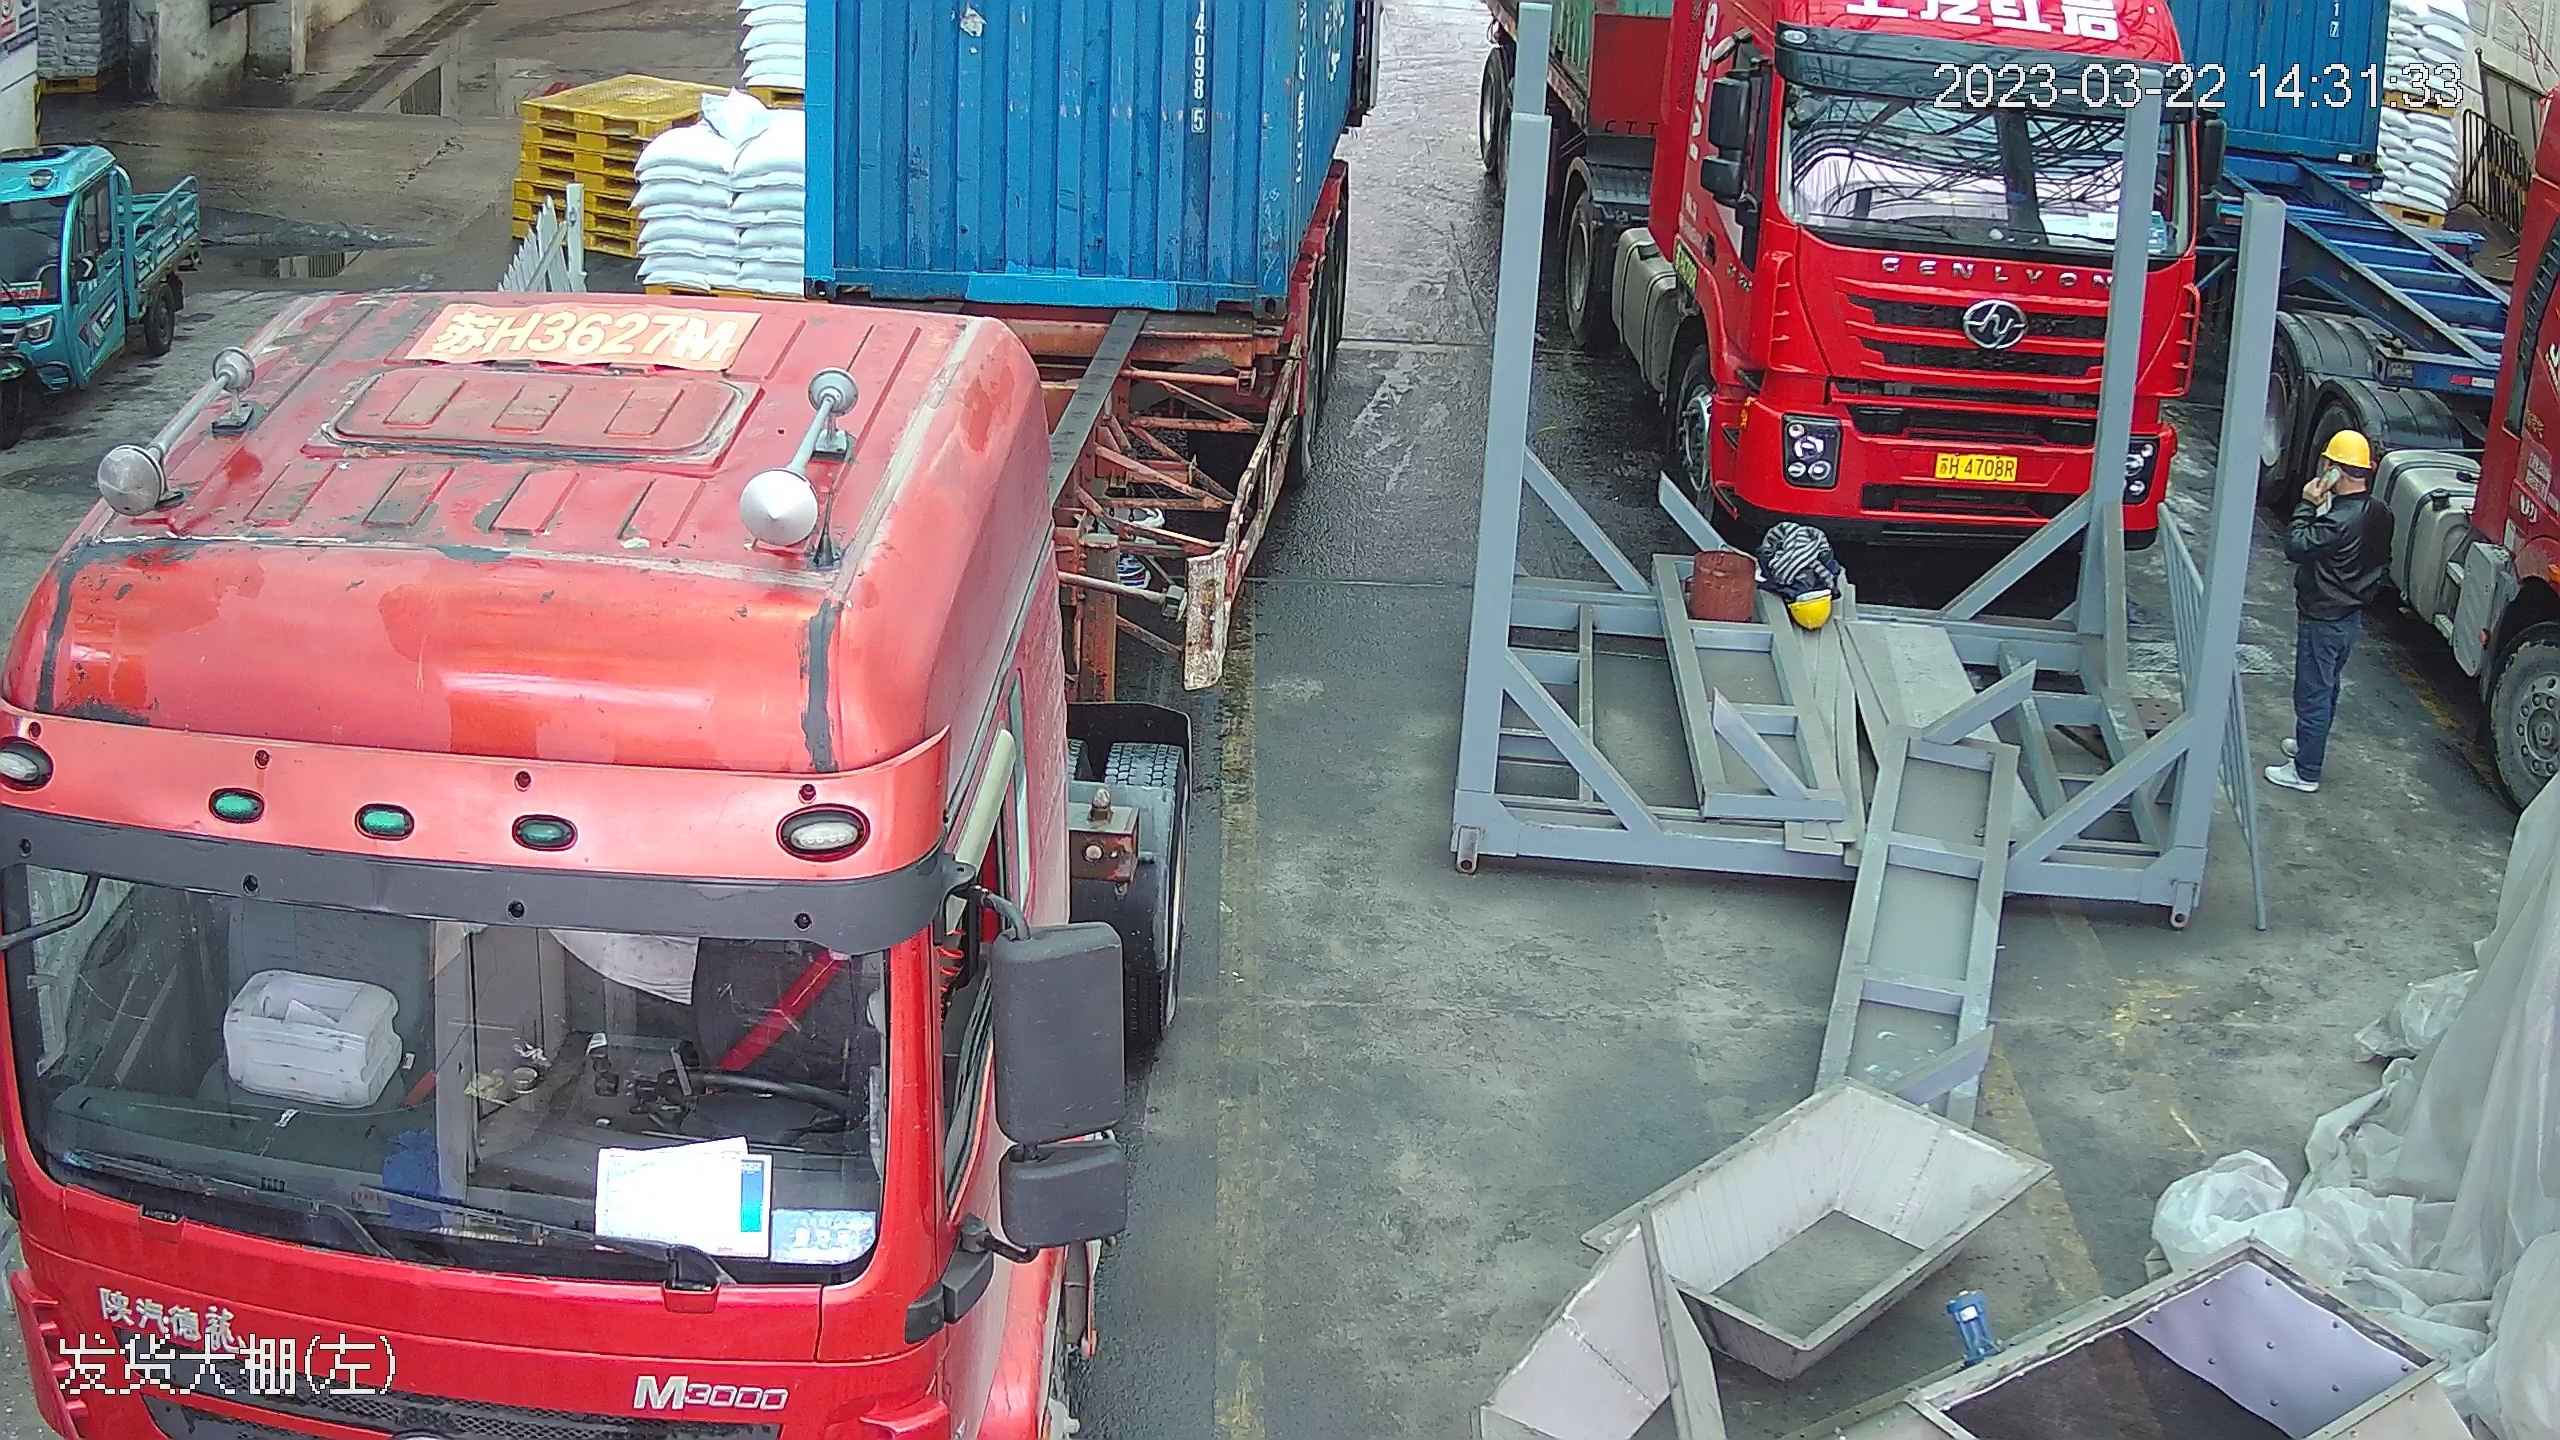head: (2290, 426, 2390, 546)
helmet: (2318, 426, 2375, 472)
people: (2258, 422, 2393, 791)
truck: (1, 1, 1344, 1440), (1519, 1, 2220, 591)
